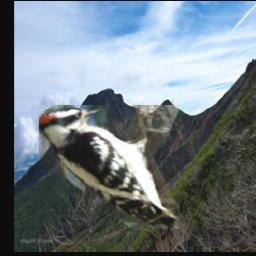Woodpecker: (38, 105, 179, 229)
